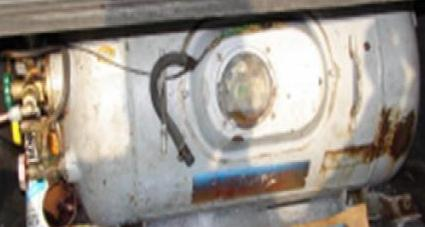cylinder: (0, 1, 425, 227)
